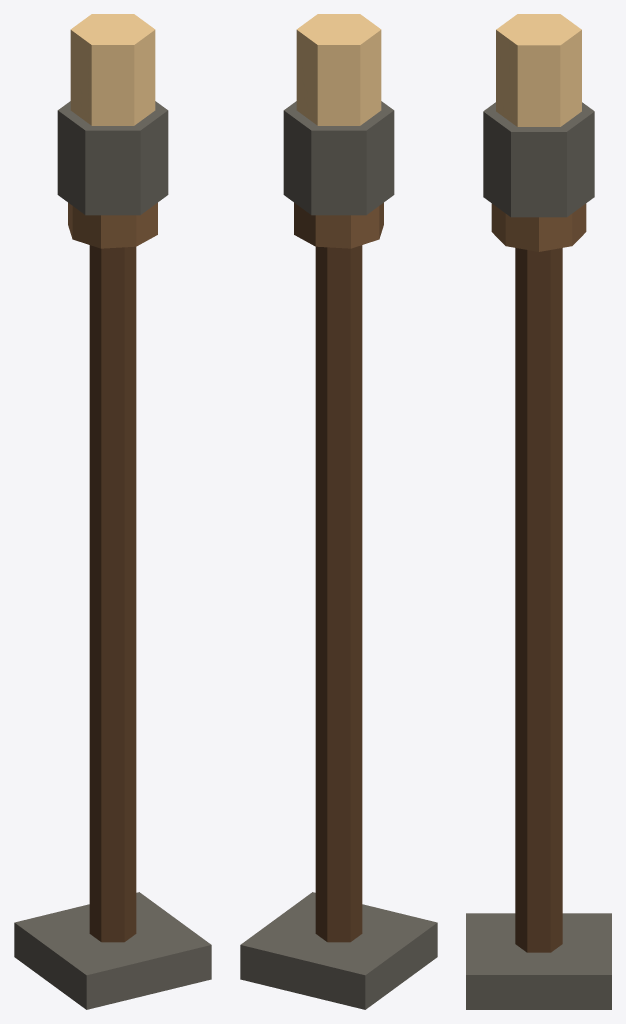
The model's file is antorcha.glb.
3 renders of one model, left to right at view 1: azimuth 30°, elevation 25°; view 2: azimuth 150°, elevation 25°; view 3: azimuth 270°, elevation 25°, orthographic.
Parts seen in each view (by area): view 1: Antorcha.001; view 2: Antorcha.001; view 3: Antorcha.001.
Boxes of the visible parts, left/top/right/bottom form: Antorcha.001: left=14, top=14, right=211, bottom=1009; Antorcha.001: left=240, top=14, right=437, bottom=1009; Antorcha.001: left=466, top=14, right=611, bottom=1009.
Size of the model in its own units: 0.34 by 2.44 by 0.34.
